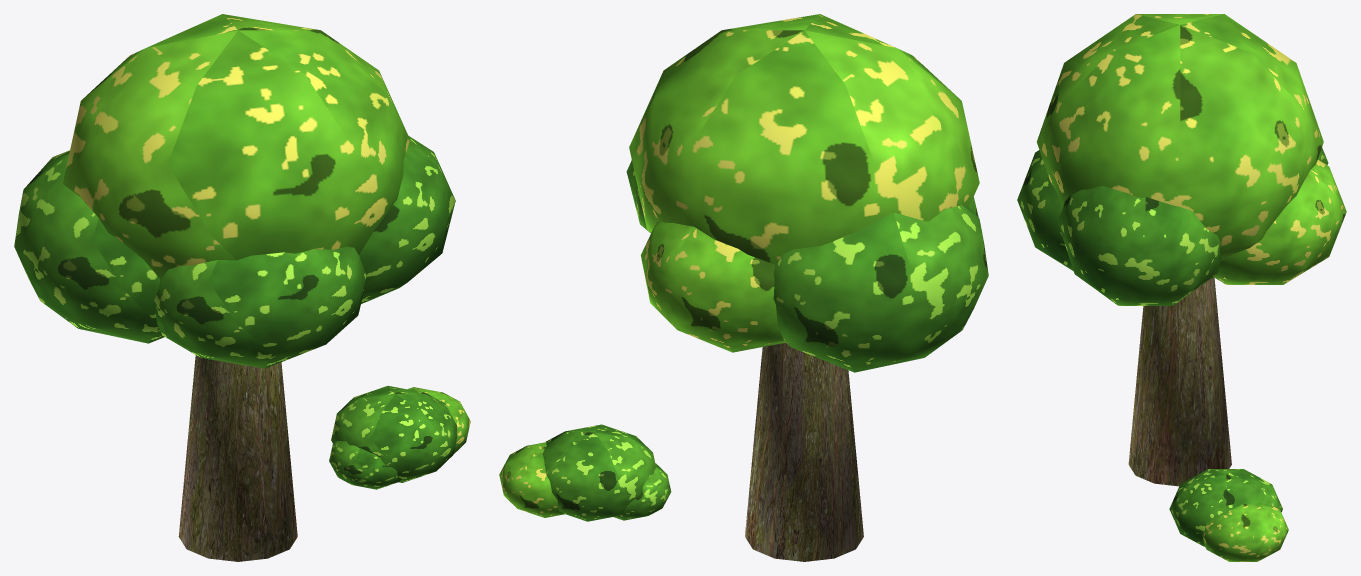
File: arbol.obj
The picture shows the model from 3 angles, left to right: view 1: azimuth 30°, elevation 25°; view 2: azimuth 150°, elevation 25°; view 3: azimuth 270°, elevation 25°; orthographic projection. The views are drawn at different scales.
Parts seen in each view (by area): view 1: Copa_Centro, Tronco_Arbol, Copa_Frontal, Copa_Rama_Izq, Copa_Rama_Der, Arbusto_Parte_1, Arbusto_Parte_3, Arbusto_Parte_2; view 2: Copa_Centro, Copa_Rama_Izq, Tronco_Arbol, Copa_Posterior, Arbusto_Parte_1, Arbusto_Parte_2, Arbusto_Parte_3; view 3: Copa_Centro, Tronco_Arbol, Copa_Rama_Der, Copa_Posterior, Arbusto_Parte_1, Arbusto_Parte_2, Copa_Frontal.
Boxes of the visible parts, bbox=[...] form: Copa_Centro: bbox=[63, 14, 410, 279]; Tronco_Arbol: bbox=[178, 355, 297, 561]; Copa_Frontal: bbox=[154, 246, 366, 368]; Copa_Rama_Izq: bbox=[14, 150, 164, 343]; Copa_Rama_Der: bbox=[359, 135, 455, 303]; Arbusto_Parte_1: bbox=[331, 386, 458, 482]; Arbusto_Parte_3: bbox=[329, 441, 401, 489]; Arbusto_Parte_2: bbox=[408, 387, 470, 454]; Copa_Centro: bbox=[629, 14, 979, 264]; Copa_Rama_Izq: bbox=[773, 205, 988, 372]; Tronco_Arbol: bbox=[745, 342, 863, 561]; Copa_Posterior: bbox=[641, 221, 785, 352]; Arbusto_Parte_1: bbox=[542, 424, 656, 521]; Arbusto_Parte_2: bbox=[499, 442, 564, 517]; Arbusto_Parte_3: bbox=[613, 463, 671, 520]; Copa_Centro: bbox=[1037, 14, 1323, 260]; Tronco_Arbol: bbox=[1128, 277, 1231, 486]; Copa_Rama_Der: bbox=[1058, 186, 1221, 305]; Copa_Posterior: bbox=[1213, 160, 1346, 284]; Arbusto_Parte_1: bbox=[1169, 469, 1282, 547]; Arbusto_Parte_2: bbox=[1202, 504, 1288, 561]; Copa_Frontal: bbox=[1017, 150, 1073, 270].
Bounding box in the file's own units: 3.88 × 4.24 × 2.87.
3 materials, 3 textured.
